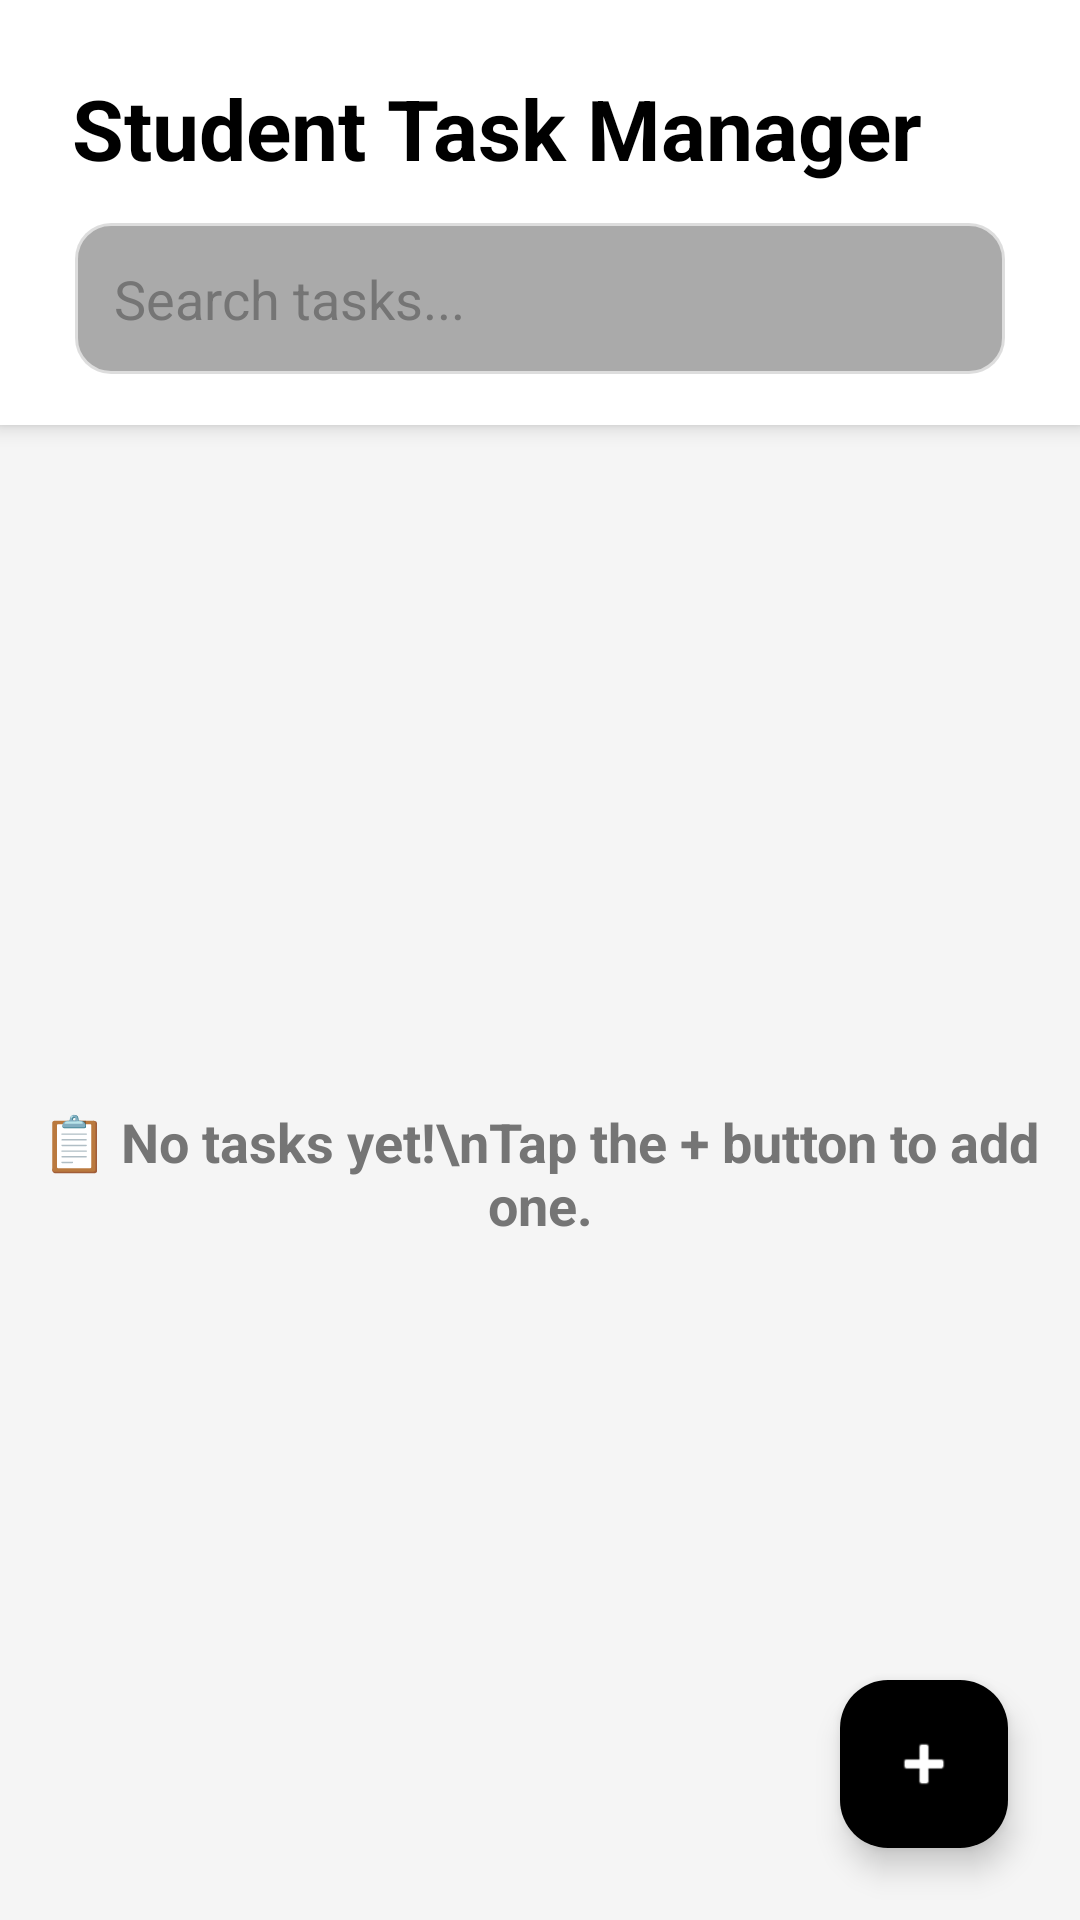

Icon click points for this 1080 × 1920 phone screenshot, format (x,y):
Add Task: (924,1764)
